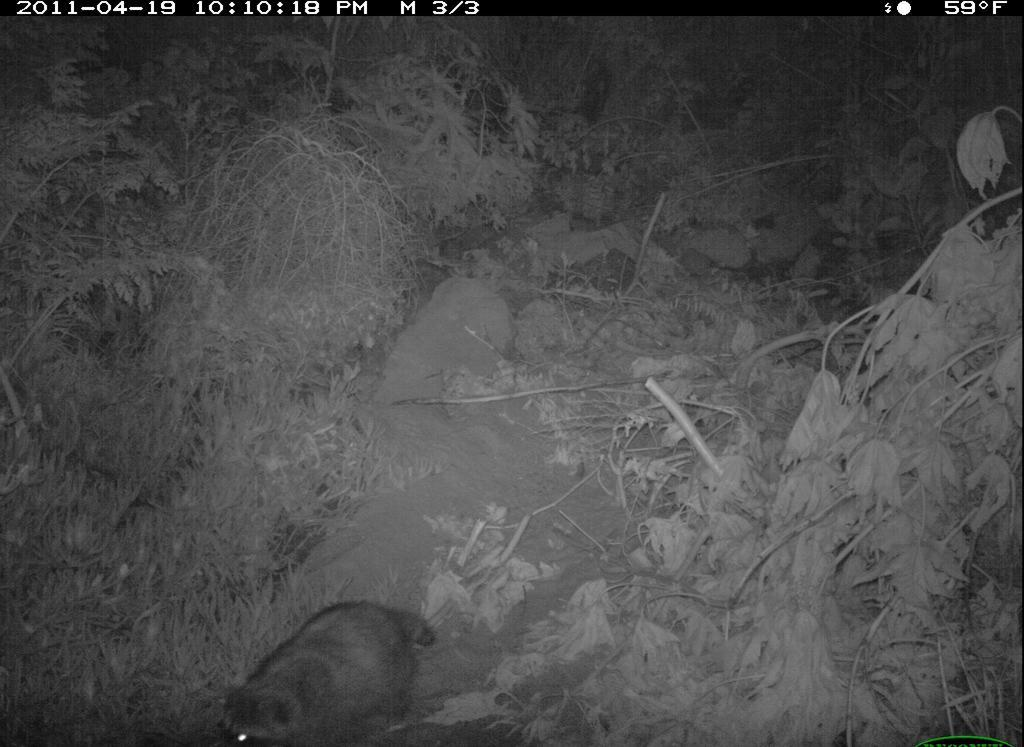raccoon: (208, 590, 456, 747)
